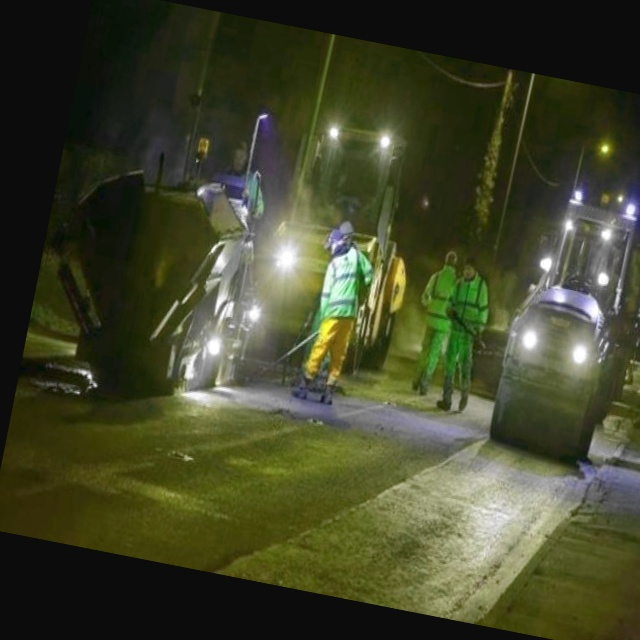Con_Chaleco: (317, 250, 368, 325), (447, 275, 493, 337), (423, 271, 457, 329)
